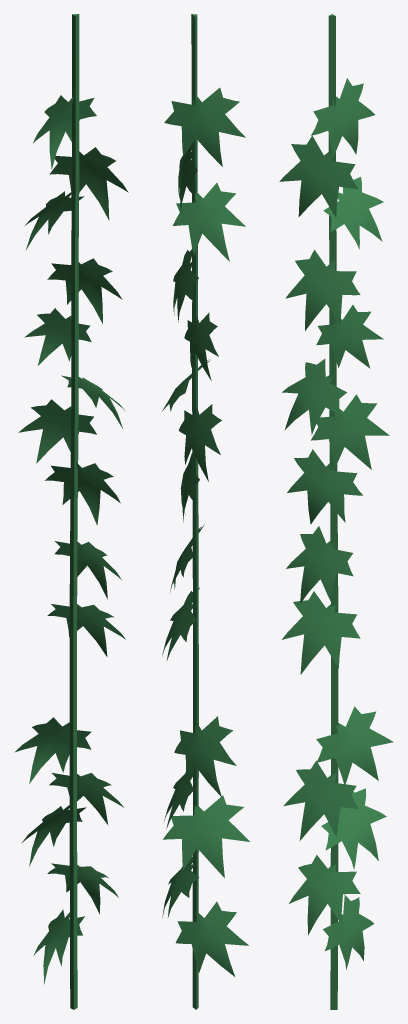
File: vine_F_alangium.fbx
The picture shows the model from 3 angles, left to right: view 1: azimuth 90°, elevation 25°; view 2: azimuth 210°, elevation 25°; view 3: azimuth 270°, elevation 25°; orthographic projection.
Visible parts, largest first — view 1: vine_F_alangium_root, vine_F_alangium_A_leaf_B7, vine_F_alangium_A_leaf_B4, vine_F_alangium_A_leaf_B3, vine_F_alangium_A_leaf_B8, vine_F_alangium_A_leaf_B10, vine_F_alangium_A_leaf_B, vine_F_alangium_A_leaf_B2, vine_F_alangium_A_leaf_B12, vine_F_alangium_A_leaf_B13, vine_F_alangium_A_leaf_B6, vine_F_alangium_A_leaf_B11 (+4 smaller); view 2: vine_F_alangium_root, vine_F_alangium_A_leaf_B5, vine_F_alangium_A_leaf_B, vine_F_alangium_A_leaf_B1, vine_F_alangium_A_leaf_B6, vine_F_alangium_A_leaf_B4, vine_F_alangium_A_leaf_B3, vine_F_alangium_A_leaf_B2, vine_F_alangium_A_leaf_B8, vine_F_alangium_A_leaf_B12, vine_F_alangium_A_leaf_B14, vine_F_alangium_A_leaf_B7 (+4 smaller); view 3: vine_F_alangium_root, vine_F_alangium_A_leaf_B7, vine_F_alangium_A_leaf_B12, vine_F_alangium_A_leaf_B4, vine_F_alangium_A_leaf_B8, vine_F_alangium_A_leaf_B13, vine_F_alangium_A_leaf_B3, vine_F_alangium_A_leaf_B10, vine_F_alangium_A_leaf_B14, vine_F_alangium_A_leaf_B11, vine_F_alangium_A_leaf_B, vine_F_alangium_A_leaf_B9 (+4 smaller).
Part boxes in pixels (x1,y1,x2,y2): vine_F_alangium_root: [69, 14, 79, 1009]; vine_F_alangium_A_leaf_B7: [49, 147, 128, 220]; vine_F_alangium_A_leaf_B4: [15, 717, 91, 783]; vine_F_alangium_A_leaf_B3: [18, 399, 96, 463]; vine_F_alangium_A_leaf_B8: [47, 258, 122, 323]; vine_F_alangium_A_leaf_B10: [44, 462, 120, 525]; vine_F_alangium_A_leaf_B: [33, 95, 96, 169]; vine_F_alangium_A_leaf_B2: [24, 308, 91, 365]; vine_F_alangium_A_leaf_B12: [47, 603, 125, 656]; vine_F_alangium_A_leaf_B13: [49, 772, 123, 825]; vine_F_alangium_A_leaf_B6: [33, 909, 84, 984]; vine_F_alangium_A_leaf_B11: [54, 540, 121, 599]; vine_F_alangium_root: [191, 14, 198, 1009]; vine_F_alangium_A_leaf_B5: [163, 795, 249, 878]; vine_F_alangium_A_leaf_B: [164, 88, 245, 166]; vine_F_alangium_A_leaf_B1: [173, 183, 245, 261]; vine_F_alangium_A_leaf_B6: [176, 901, 248, 976]; vine_F_alangium_A_leaf_B4: [174, 716, 236, 797]; vine_F_alangium_A_leaf_B3: [178, 404, 221, 481]; vine_F_alangium_A_leaf_B2: [184, 312, 218, 380]; vine_F_alangium_A_leaf_B8: [173, 249, 198, 322]; vine_F_alangium_A_leaf_B12: [162, 587, 199, 660]; vine_F_alangium_A_leaf_B14: [162, 851, 199, 918]; vine_F_alangium_A_leaf_B7: [178, 145, 197, 213]; vine_F_alangium_root: [328, 14, 338, 1009]; vine_F_alangium_A_leaf_B7: [279, 135, 358, 217]; vine_F_alangium_A_leaf_B12: [282, 591, 360, 674]; vine_F_alangium_A_leaf_B4: [316, 706, 393, 785]; vine_F_alangium_A_leaf_B8: [285, 250, 360, 330]; vine_F_alangium_A_leaf_B13: [283, 760, 358, 840]; vine_F_alangium_A_leaf_B3: [311, 394, 389, 469]; vine_F_alangium_A_leaf_B10: [287, 449, 362, 524]; vine_F_alangium_A_leaf_B14: [289, 855, 360, 935]; vine_F_alangium_A_leaf_B11: [286, 526, 353, 603]; vine_F_alangium_A_leaf_B: [311, 78, 374, 159]; vine_F_alangium_A_leaf_B9: [282, 359, 346, 434].
Bounding box in the file's own units: 22.73 × 329 × 34.43.
